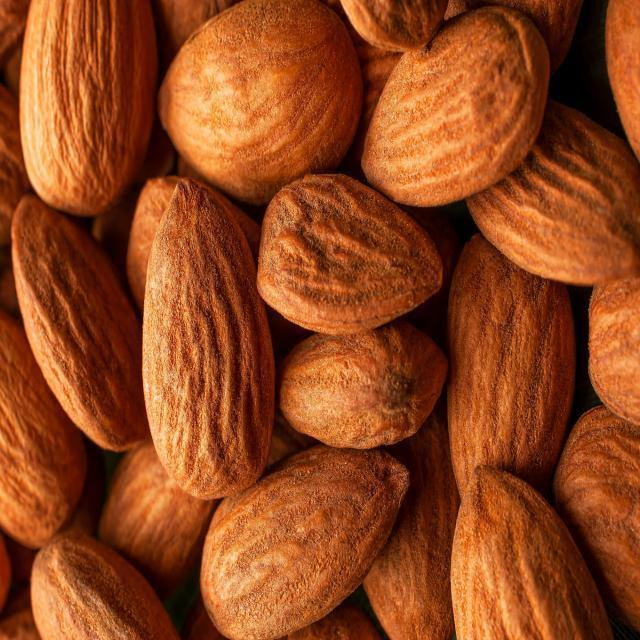almond: (142, 175, 273, 500), (200, 443, 410, 640), (159, 0, 364, 200), (357, 5, 547, 205), (10, 188, 155, 450), (449, 227, 579, 482), (15, 0, 160, 215), (471, 106, 640, 286), (258, 172, 447, 332), (448, 465, 612, 640), (0, 311, 93, 546), (556, 405, 640, 640), (280, 325, 438, 447), (24, 526, 178, 640), (100, 448, 203, 572), (583, 271, 640, 424)
